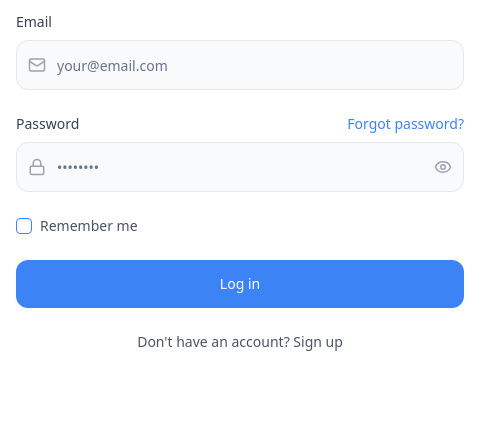
Test: LoginForm › shows password validation error when password is too short
Type "valid@example.com" into the field labelled "Email" at point(240, 65), box [16, 40, 464, 90]
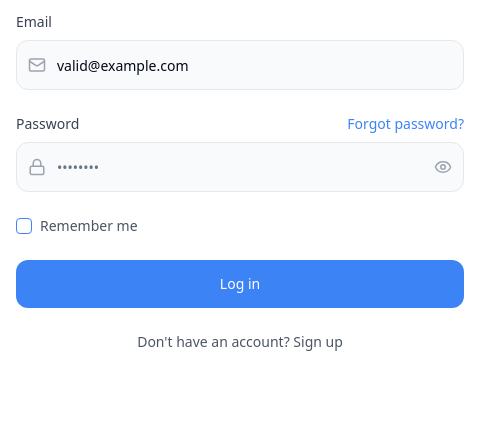
Type "short" into the password field labelled "Password" at point(240, 167), box [16, 142, 464, 192]
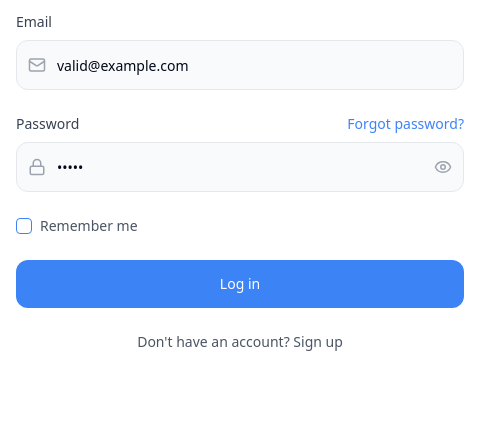
Click the button "Log in" at point(240, 284), box [16, 260, 464, 308]
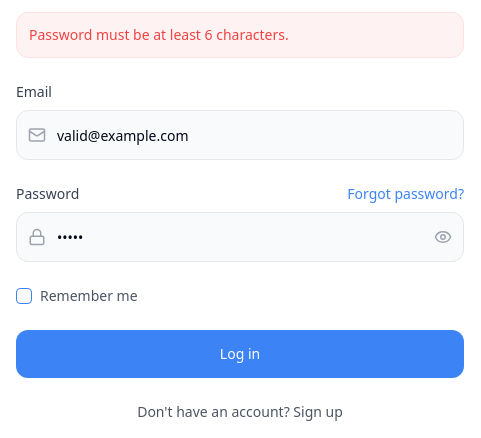
Now the text "Password must be at least 6 characters." is shown, box [16, 12, 464, 58]
